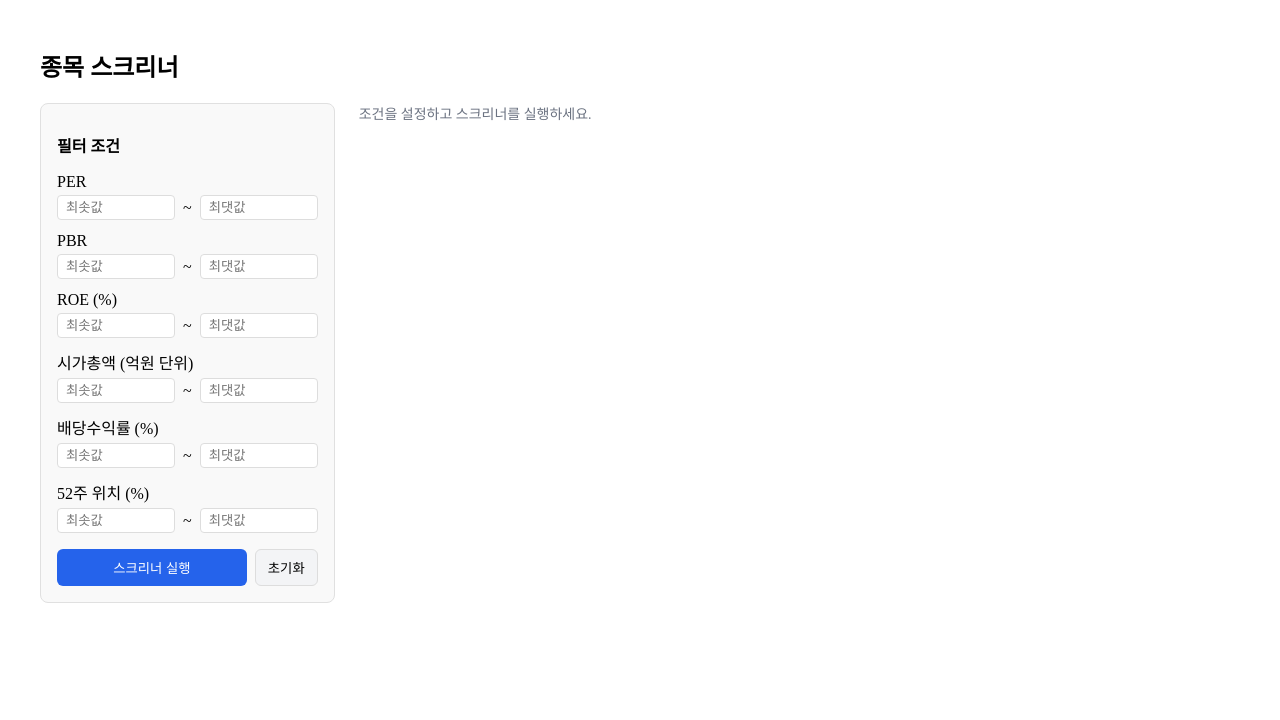
it: Screener 페이지 › 스크리너 실행 시 결과 테이블이 렌더링된다
Click the button with test id "run-screener-btn" at point(152, 568), box [57,549,247,586]
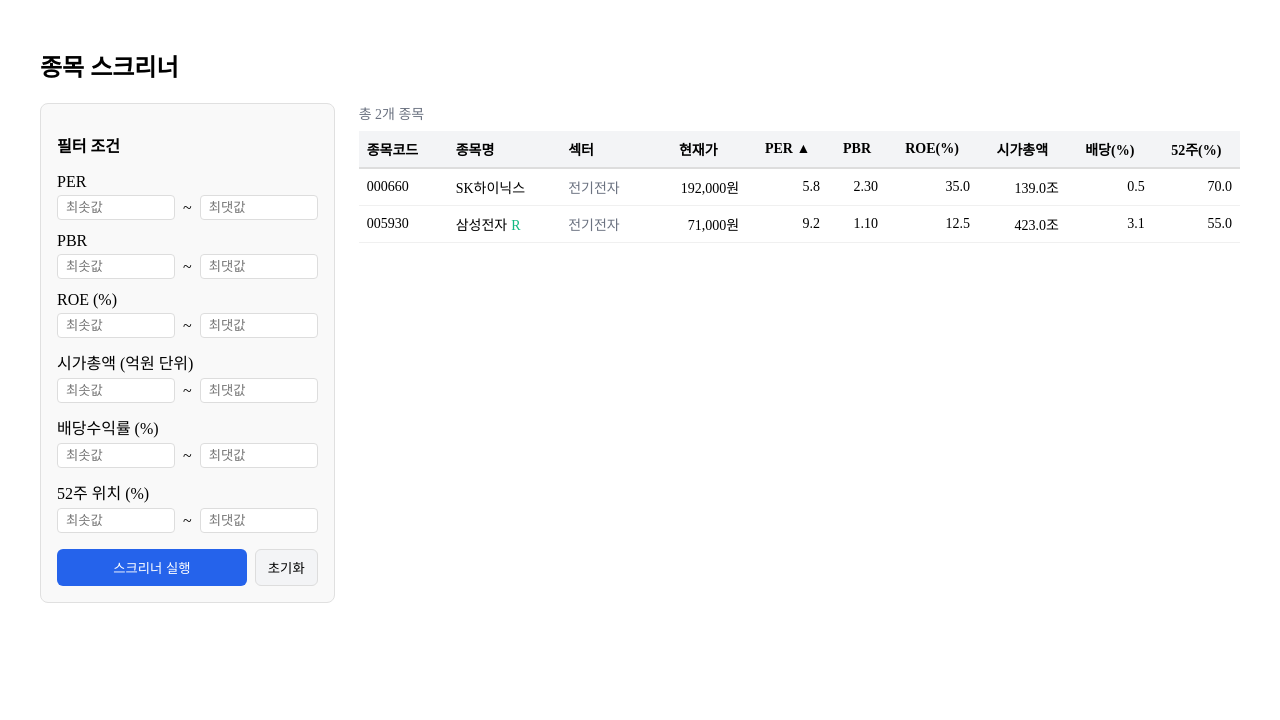
Result: the table with test id "screener-table" is shown at [359,131,1240,243]
Result: the row with test id "row-005930" is shown at [359,206,1240,243]
Result: the row with test id "row-000660" is shown at [359,168,1240,206]
